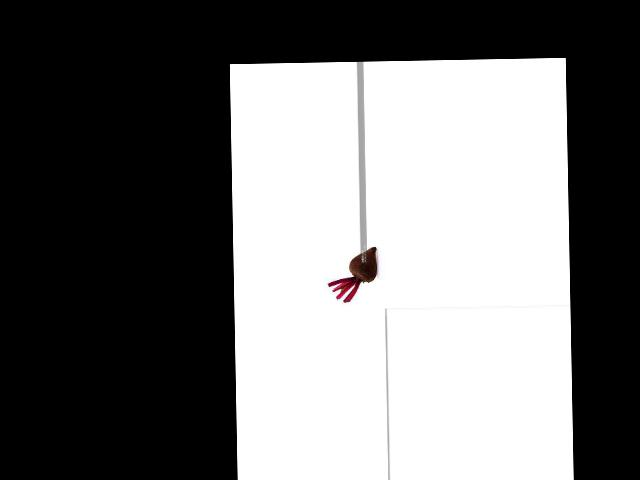beet: (327, 246, 377, 302)
